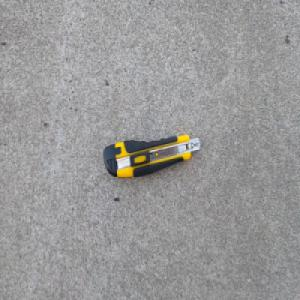Cutter: (102, 133, 201, 178)
